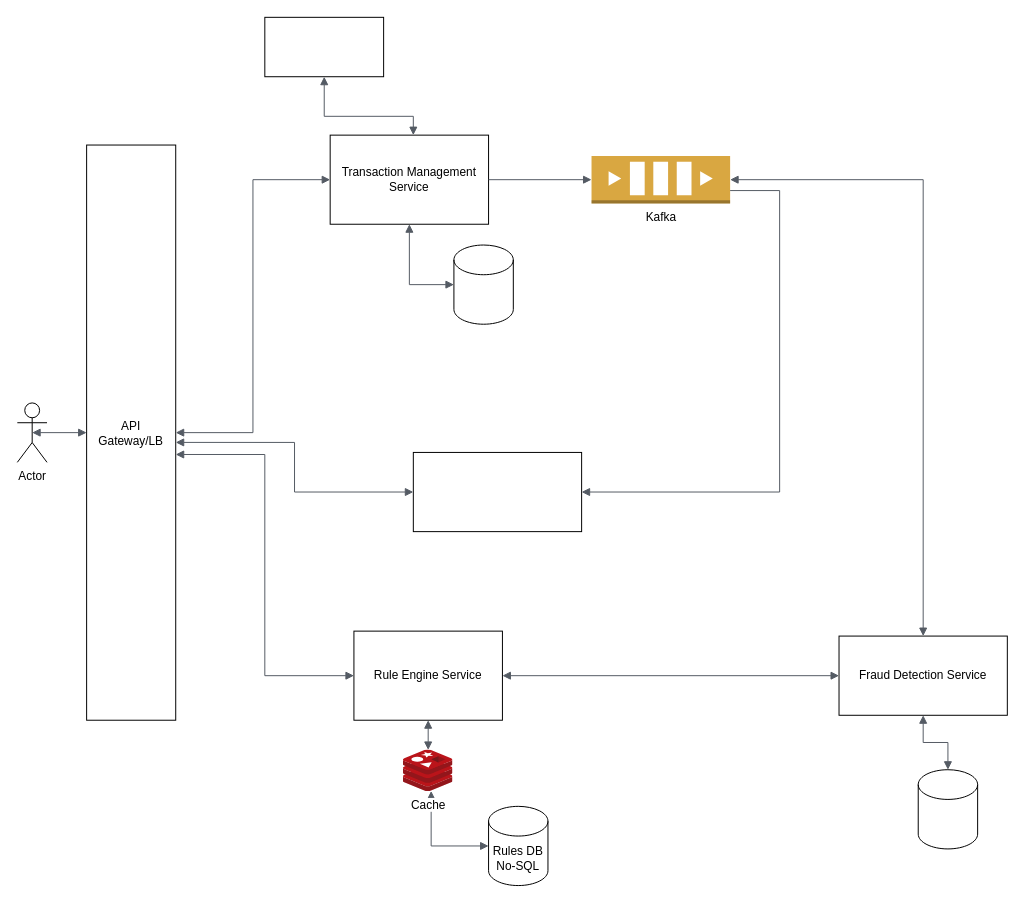
The diagram is 1025 pixels wide and 903 high, and some of its shapes have lost their labels. The shapes that lost their labels are listed below. From the top down, each one's centre as x and y in pixels, then its label:
point 324,46: User Service/IAM
point 483,284: TM DB SQL
point 497,491: Notification Service
point 947,809: FD DB SQL
